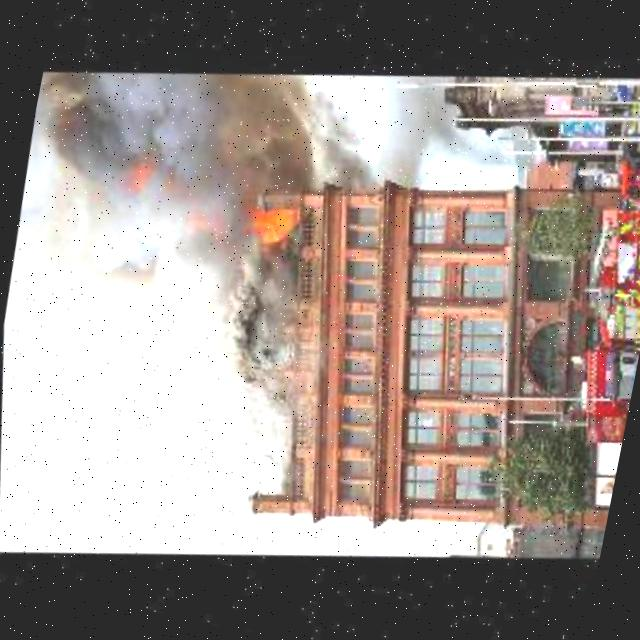fire: (231, 182, 312, 262)
